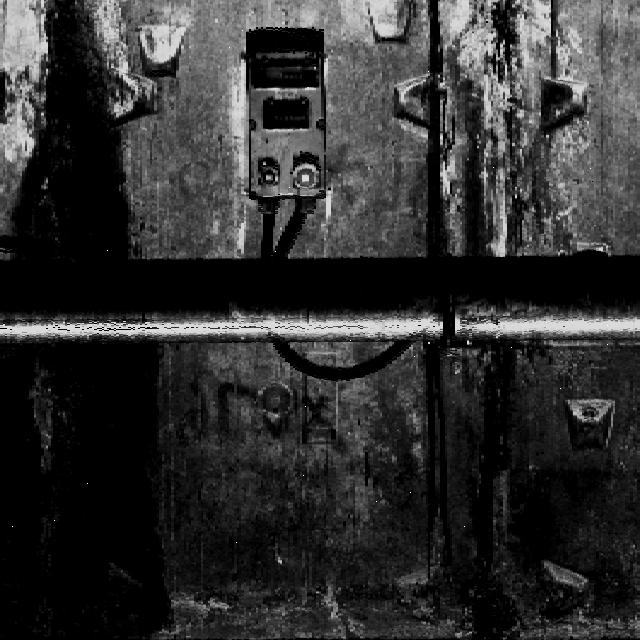leakage: (5, 5, 171, 640), (398, 1, 566, 264), (410, 342, 537, 586)
